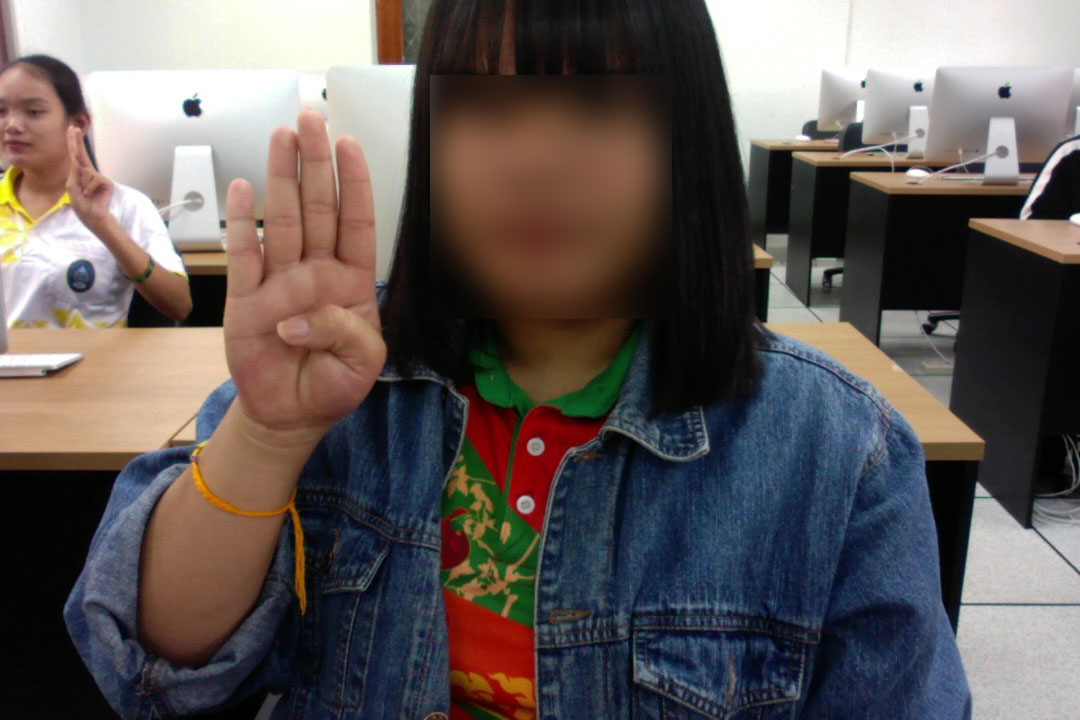bor: (217, 100, 390, 451)
